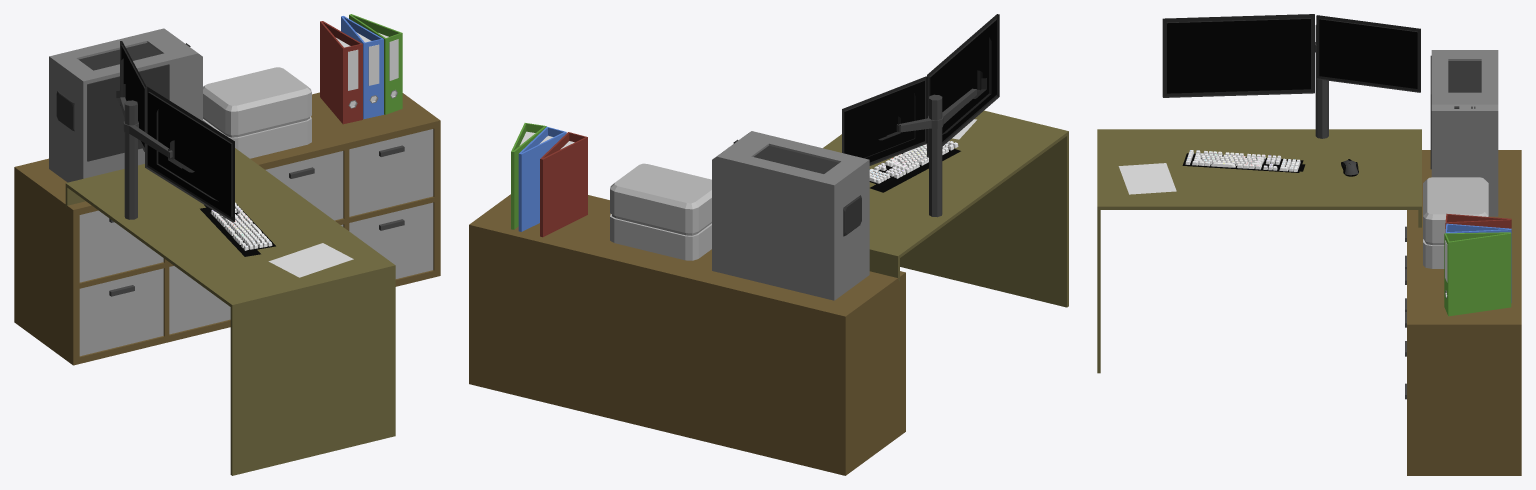
The model's file is MehmetRoom.glb.
The picture shows the model from 3 angles, left to right: view 1: azimuth 30°, elevation 25°; view 2: azimuth 150°, elevation 25°; view 3: azimuth 270°, elevation 25°; orthographic projection. The views are drawn at different scales.
Visible parts, largest first — view 1: TABLE, pc, monitors, Ordner, Cube, paper; view 2: TABLE, pc, monitors, Cube, Ordner; view 3: TABLE, monitors, pc, Ordner, Cube, paper, Plane.019.
Part boxes in pixels (bbox=[...]): TABLE: bbox=[14, 92, 440, 475]; pc: bbox=[49, 28, 202, 182]; monitors: bbox=[116, 41, 234, 222]; Ordner: bbox=[320, 14, 402, 124]; Cube: bbox=[203, 67, 311, 158]; paper: bbox=[268, 243, 353, 277]; TABLE: bbox=[469, 110, 1068, 475]; pc: bbox=[712, 131, 869, 300]; monitors: bbox=[842, 14, 999, 217]; Cube: bbox=[610, 163, 711, 260]; Ordner: bbox=[511, 123, 587, 237]; TABLE: bbox=[1097, 129, 1521, 475]; monitors: bbox=[1162, 14, 1420, 138]; pc: bbox=[1430, 50, 1498, 216]; Ordner: bbox=[1444, 213, 1511, 316]; Cube: bbox=[1423, 177, 1488, 268]; paper: bbox=[1118, 163, 1176, 194]; Plane.019: bbox=[1182, 153, 1303, 172].
Bounding box in the file's own units: 1.8 × 1.44 × 1.85.
